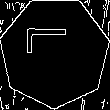L_E: (30, 37, 80, 68)
